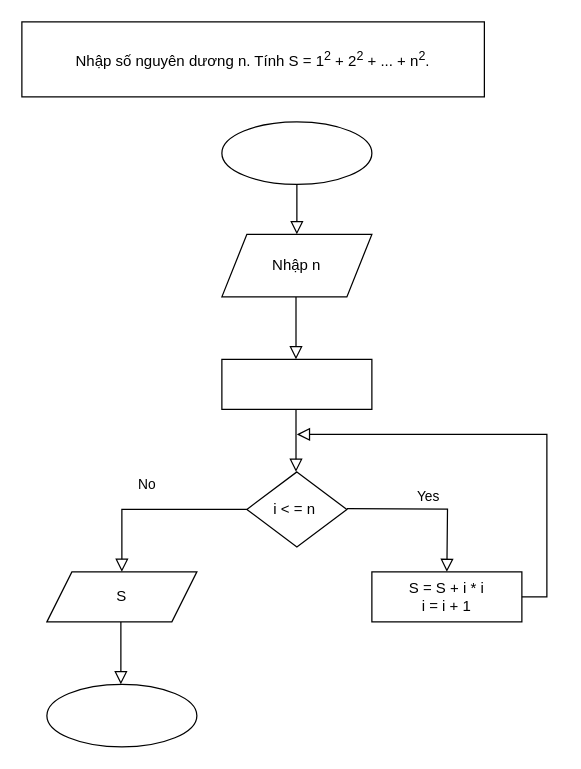
The diagram is 581 pixels wide and 769 high, and some of its shapes have lost their labels. The shapes that lost their labels are listed below. From the top down, each one's box as (x1, y1, x2, y2) in pixels, then its label:
(221, 121, 372, 184): Bắt đầu
(221, 358, 372, 409): S = 0, i = 1
(46, 683, 197, 747): Kết thúc
